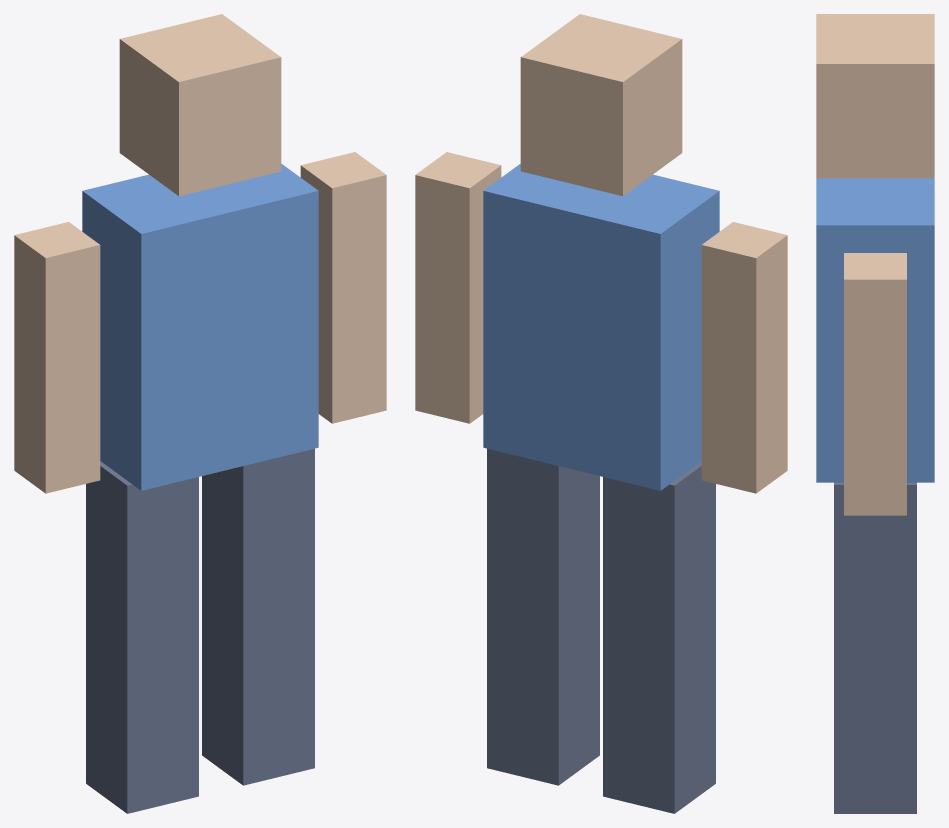
Rendered from figure.gltf.
3 views of the same model, side by side, from view 1: azimuth 30°, elevation 25°; view 2: azimuth 150°, elevation 25°; view 3: azimuth 270°, elevation 25° (orthographic).
Visible parts, largest first — view 1: Torso, LegLeft, LegRight, Head, ArmLeft, ArmRight; view 2: Torso, LegLeft, LegRight, Head, ArmLeft, ArmRight; view 3: LegRight, Torso, Head, ArmRight.
Part boxes in pixels (x1,y1,x2,y2): Torso: (82, 164, 318, 490); LegLeft: (86, 461, 198, 813); LegRight: (202, 448, 314, 785); Head: (119, 14, 281, 196); ArmLeft: (14, 222, 100, 493); ArmRight: (300, 152, 386, 423); Torso: (483, 164, 719, 490); LegLeft: (603, 461, 715, 813); LegRight: (487, 448, 599, 785); Head: (520, 14, 682, 196); ArmLeft: (701, 222, 787, 493); ArmRight: (415, 152, 501, 423); LegRight: (834, 482, 916, 813); Torso: (816, 178, 934, 482); Head: (816, 14, 934, 178); ArmRight: (844, 253, 906, 515).
Size of the model in its own units: 1 by 2.04 by 0.3.
